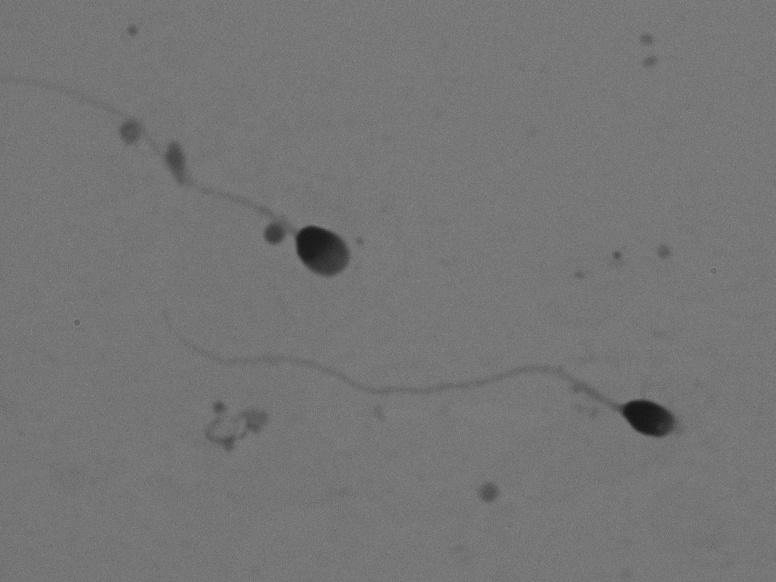Abnormal: (112, 295, 713, 478)
Normal: (6, 71, 415, 279)
